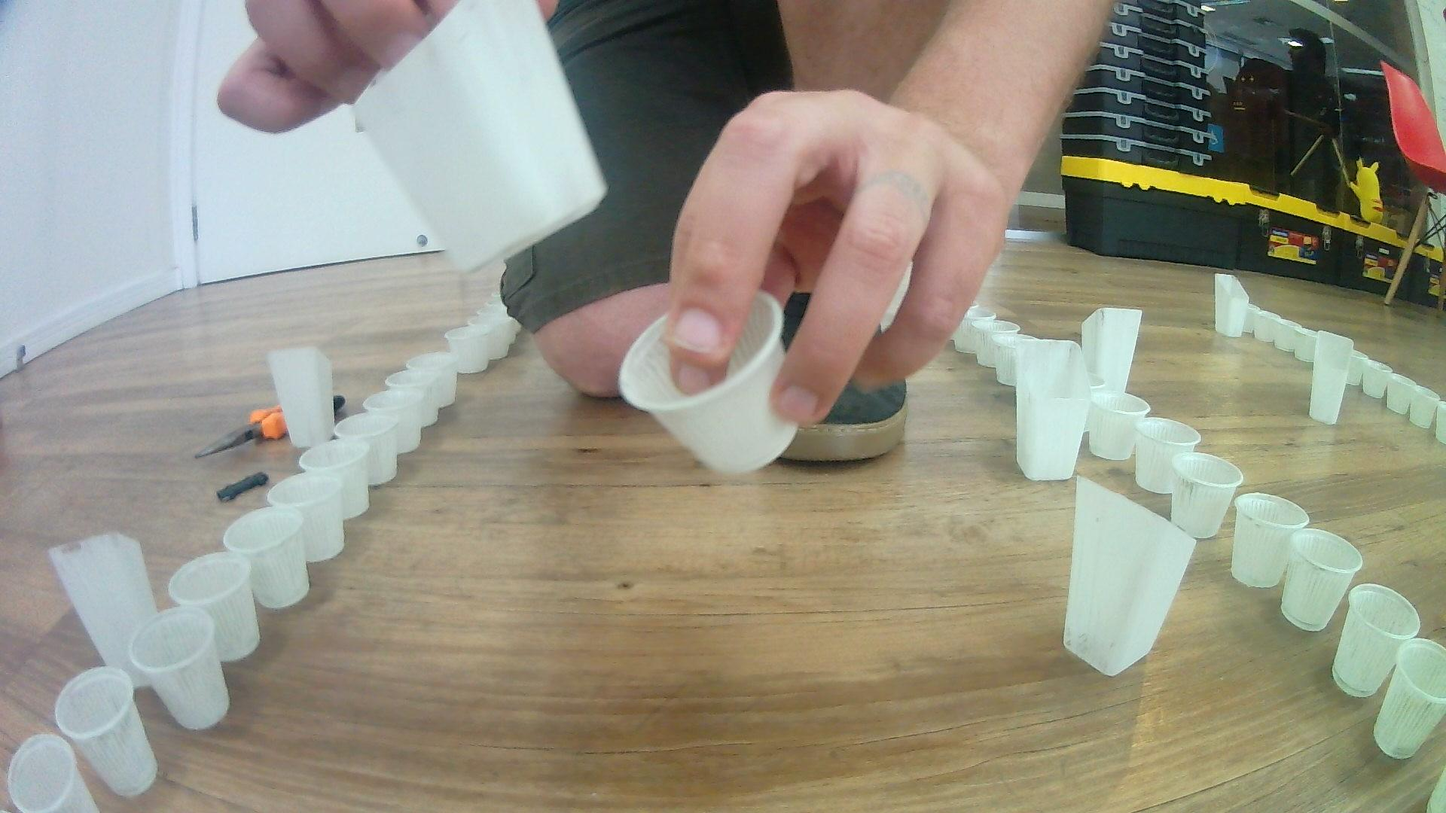erva_daninha: (348, 0, 609, 276), (1061, 473, 1198, 678), (47, 530, 159, 690), (1013, 337, 1092, 482), (268, 346, 336, 451), (1079, 306, 1144, 397), (1307, 330, 1355, 426), (1213, 273, 1250, 339)
planta: (615, 290, 804, 479), (55, 664, 159, 799), (126, 607, 232, 730), (1331, 583, 1424, 699), (166, 551, 261, 663), (221, 506, 311, 610), (1371, 639, 1446, 761), (1280, 527, 1365, 633), (1228, 493, 1310, 589), (7, 733, 102, 813), (266, 470, 346, 564), (1170, 451, 1243, 540), (298, 435, 371, 521), (1134, 418, 1202, 495), (334, 412, 399, 486), (1088, 391, 1152, 461), (362, 389, 423, 455), (384, 370, 441, 427), (405, 352, 458, 410), (973, 320, 1021, 369), (444, 325, 490, 375), (466, 313, 510, 360), (953, 309, 996, 354), (987, 332, 1020, 386), (481, 301, 521, 345), (1256, 313, 1294, 351), (1276, 322, 1313, 360), (1409, 386, 1440, 429), (1385, 373, 1414, 415), (1363, 359, 1393, 399), (948, 302, 978, 340), (1243, 307, 1275, 342), (1295, 329, 1319, 364), (1347, 349, 1369, 387), (490, 291, 514, 317), (1435, 400, 1446, 445)
